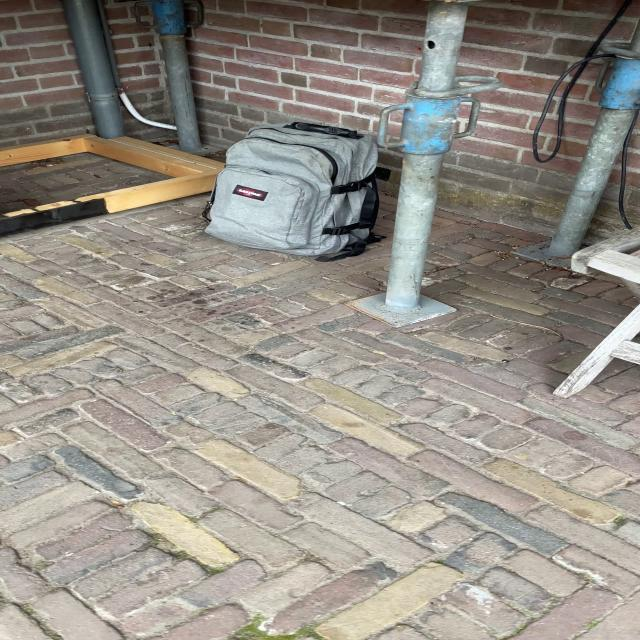backpack: (195, 116, 390, 261)
